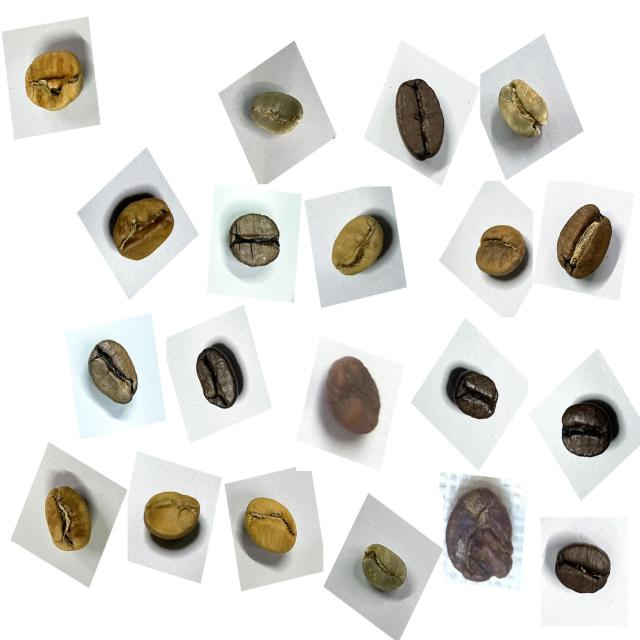bad: (438, 476, 528, 598), (316, 344, 394, 447)
dark: (551, 388, 626, 472), (548, 526, 622, 611), (184, 337, 250, 424), (440, 359, 507, 436)
green: (486, 68, 560, 156), (242, 80, 314, 150), (353, 534, 417, 606)
light: (102, 182, 186, 277), (14, 36, 95, 130), (235, 484, 309, 571), (322, 202, 396, 289), (34, 474, 104, 565), (134, 478, 208, 561), (466, 210, 535, 291)
medium: (546, 192, 626, 293), (382, 70, 460, 170), (77, 329, 148, 420), (220, 201, 292, 284)
